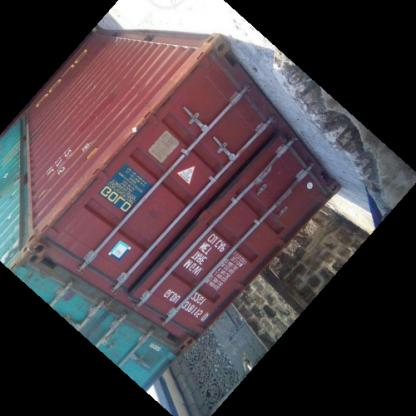Damage: (30, 170, 94, 248), (88, 117, 140, 172), (124, 79, 182, 123), (250, 88, 278, 132)
